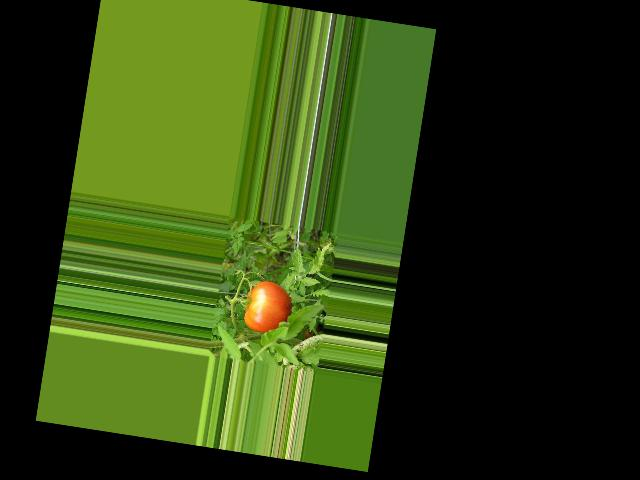tomato: (241, 278, 294, 335)
